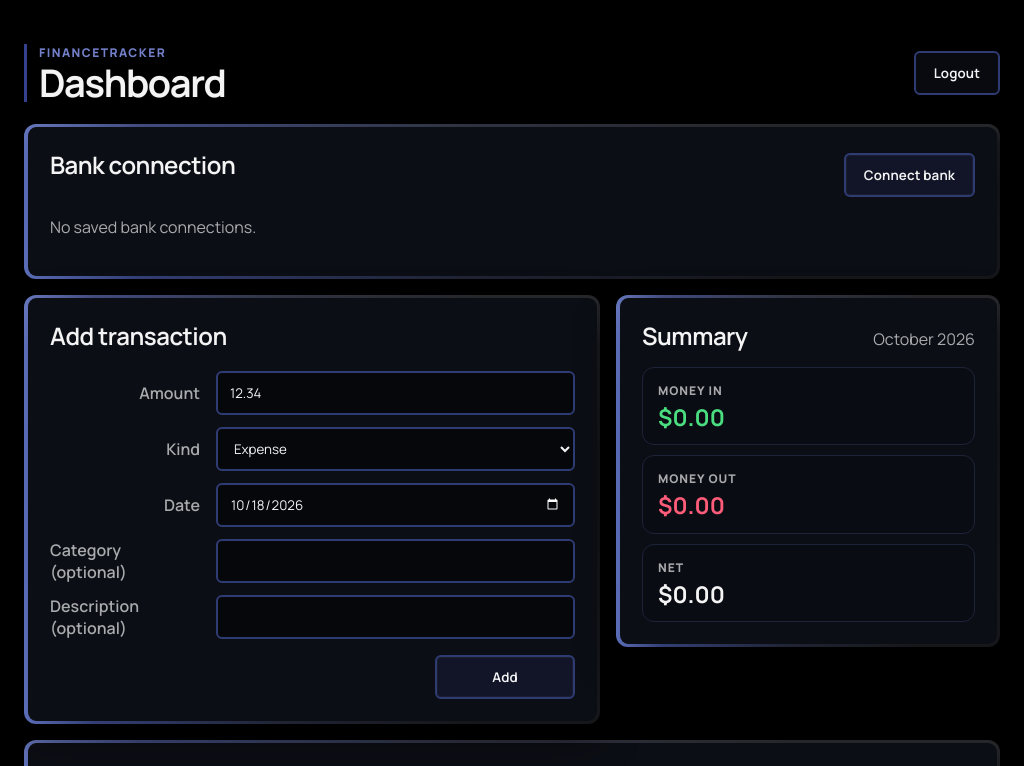
dashboard correctness › clears the client session and returns to login when logging out
The width and height of the screenshot is (1024, 766).
Expected: the heading "Dashboard" is shown, [39, 64, 226, 102]
What coordinates should you click on to do the following:
click the button "Logout"
I would click on:
 (957, 73)
Its box is [914, 51, 1000, 95].
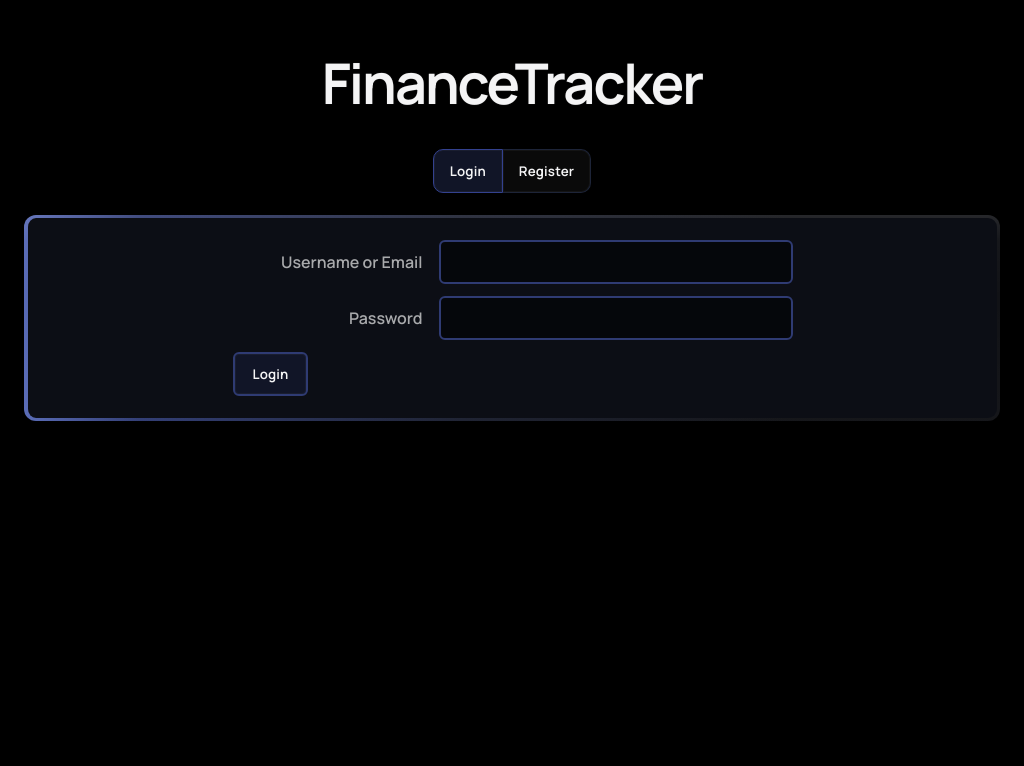
Now the heading "FinanceTracker" is shown, box [322, 44, 702, 121]
Now the heading "Dashboard" is gone
